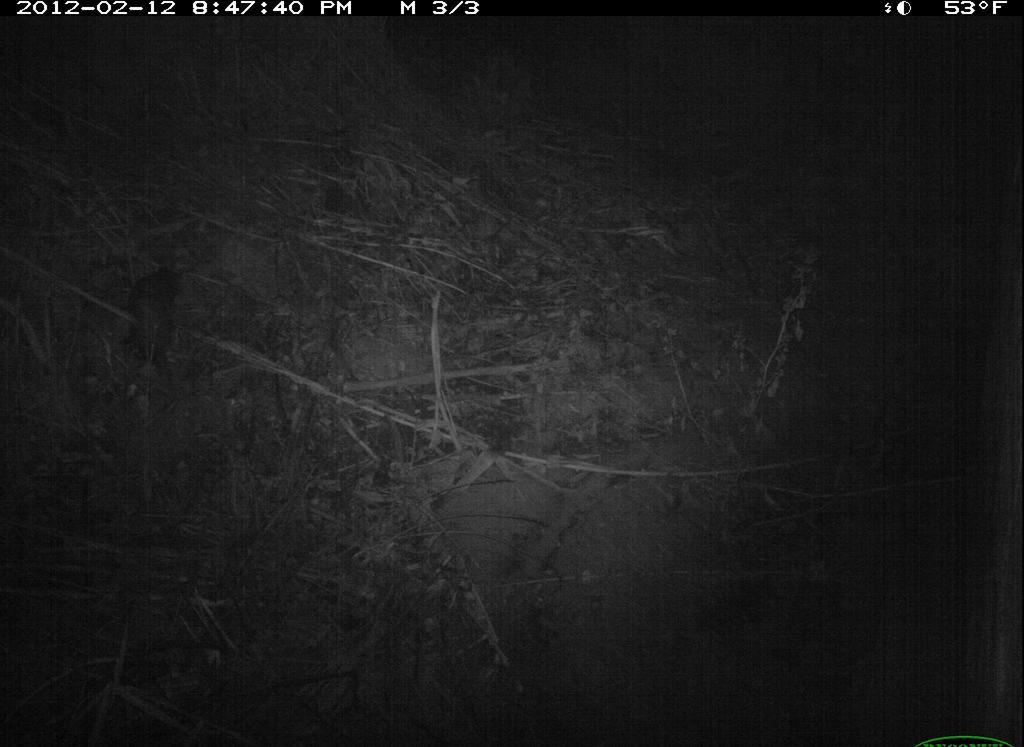opossum: (118, 241, 199, 406)
